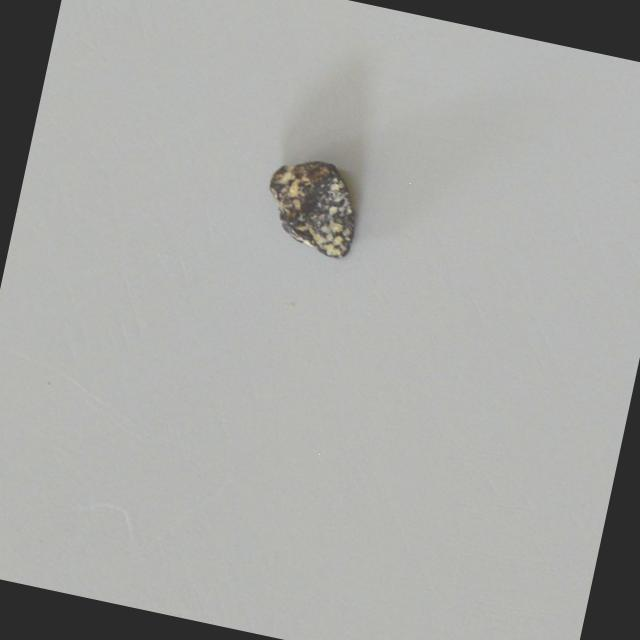cuerpos_extranos: (255, 148, 370, 263)
